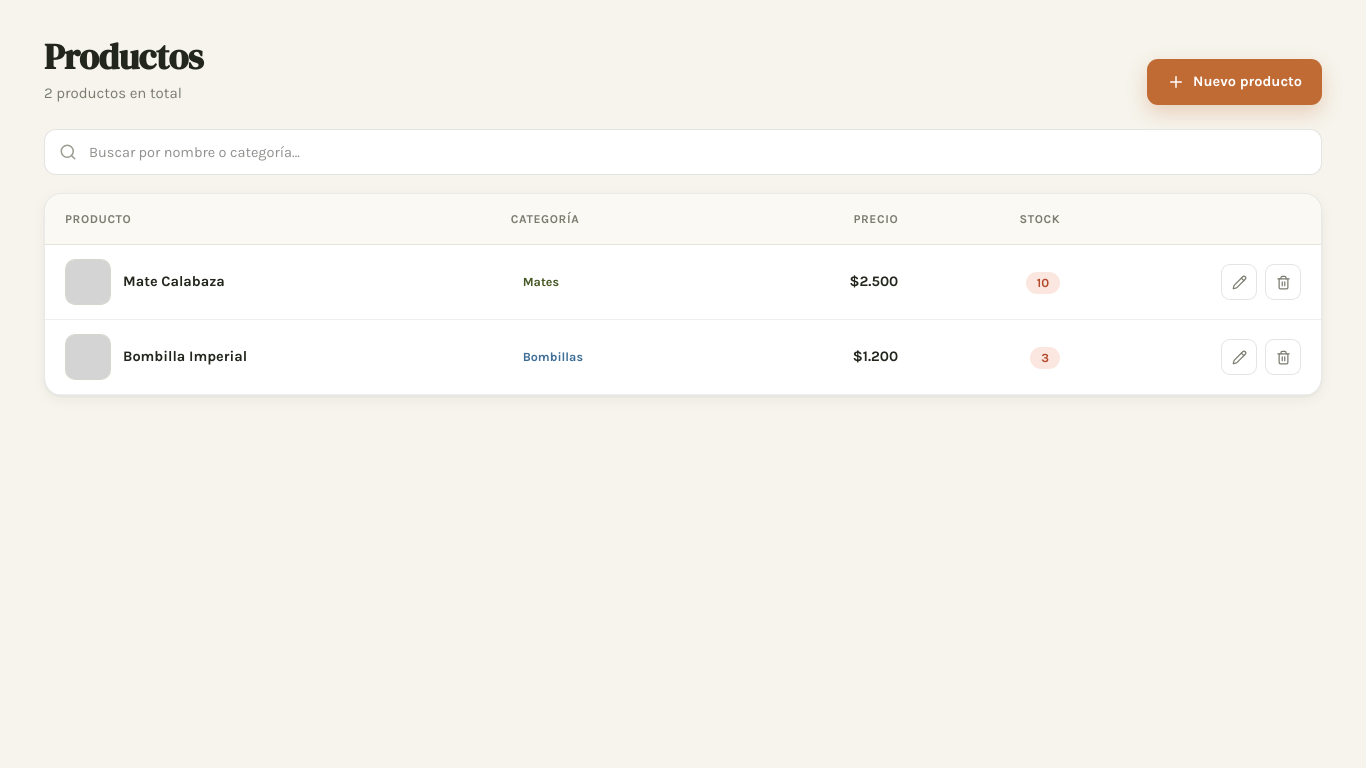
Test: AdminProducts › shows delete confirmation dialog when delete button is clicked
Click the button titled "Eliminar" in the row of "Mate Calabaza" at (1283, 282), box [1265, 264, 1301, 300]
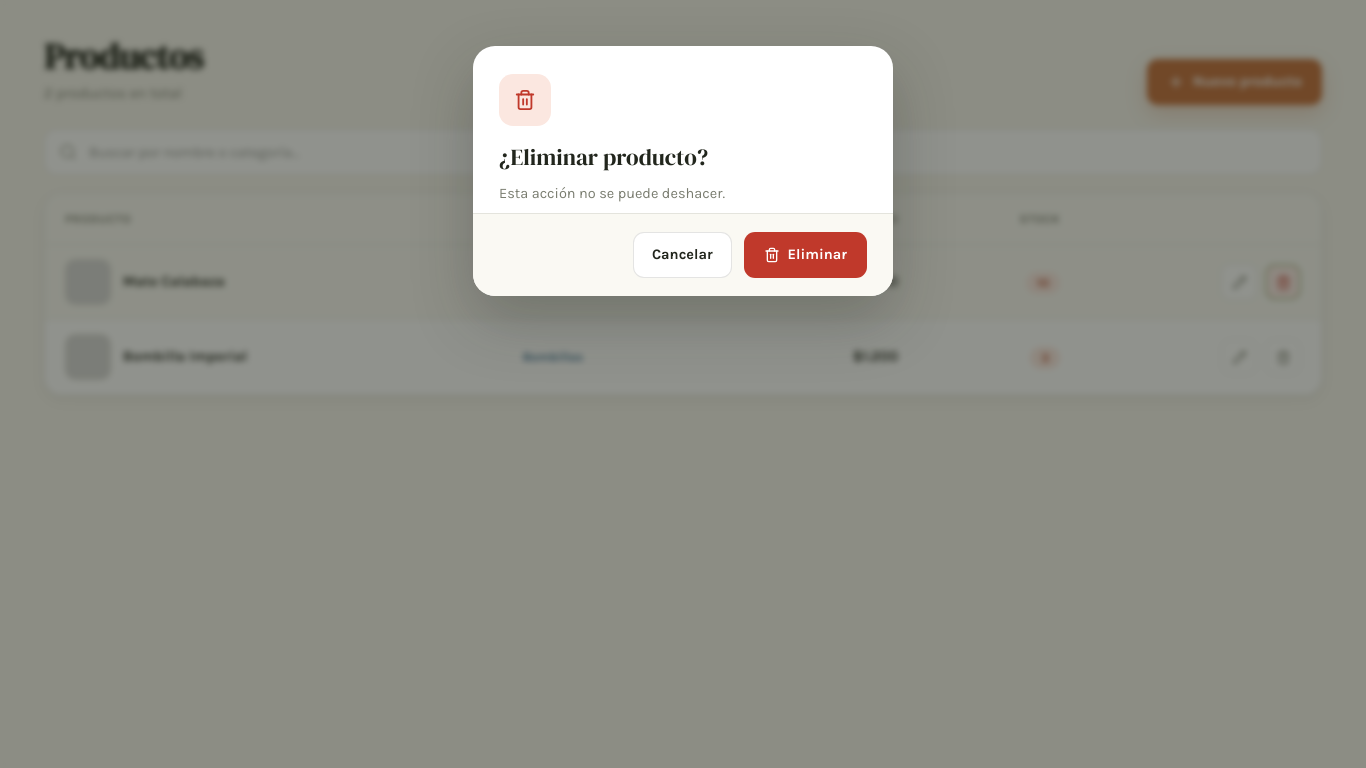
Now the heading "¿Eliminar producto?" is shown, box [499, 141, 708, 173]
Now the text "Esta acción no se puede deshacer." is shown, box [499, 185, 725, 202]
